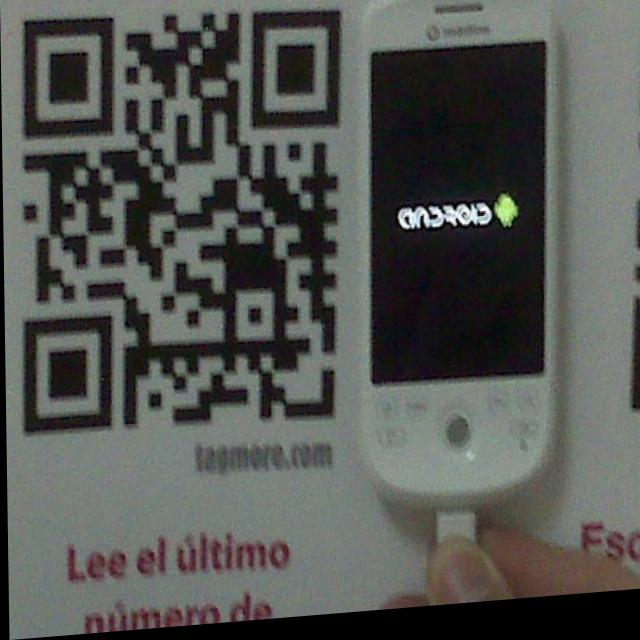qrcode: (19, 3, 345, 444)
